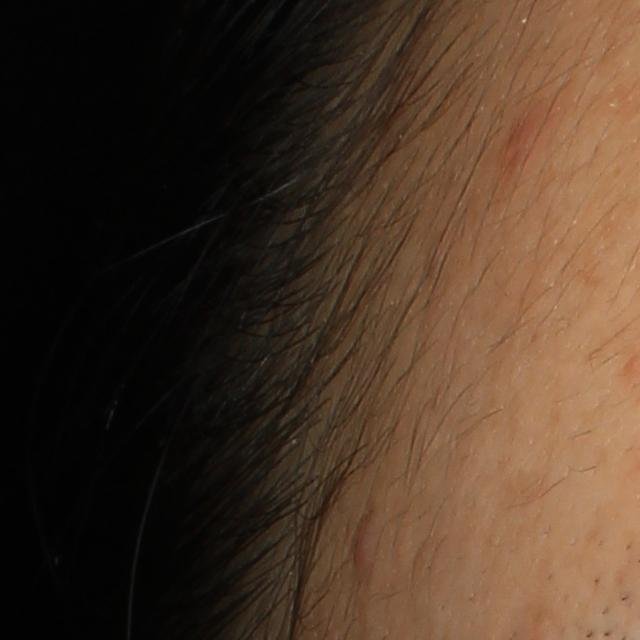papule: (348, 509, 379, 579)
